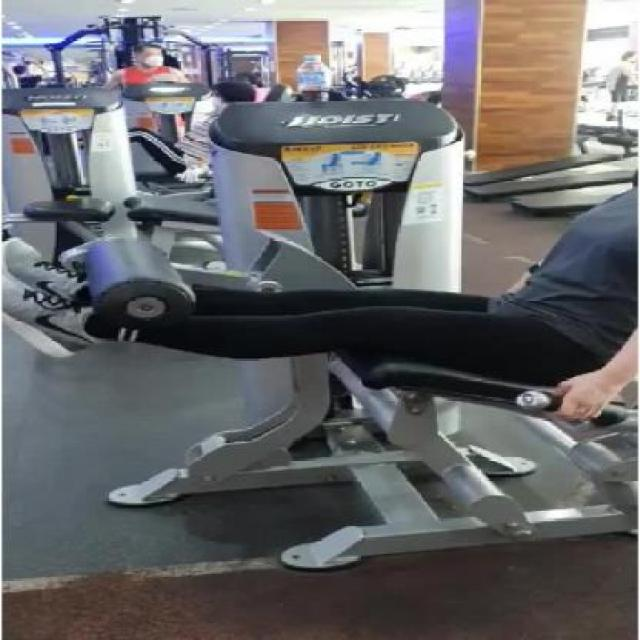leg extension: (3, 79, 640, 582)
